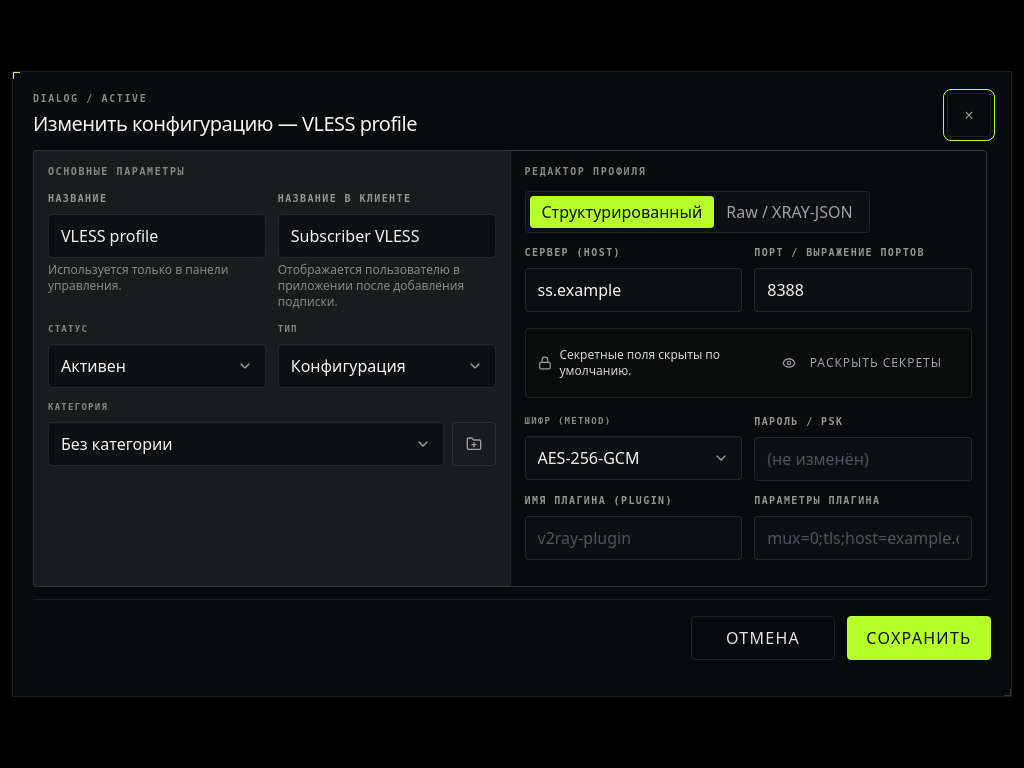
Test: KeyEditorModal regression recovery › blocks saving when independently edited structured and raw drafts diverge
Step 1. Click the button "Raw / XRAY-JSON" → {"x": 790, "y": 212}, box [714,196,865,228]
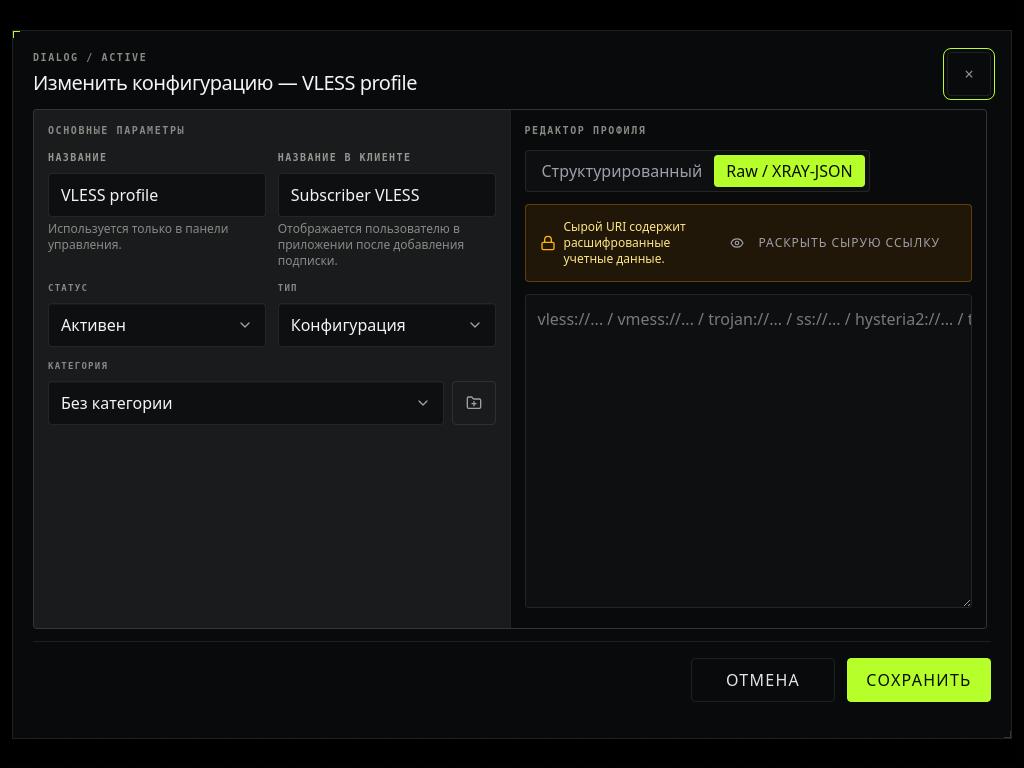
Step 2. Click the button "Раскрыть сырую ссылку" → {"x": 835, "y": 242}, box [714,220,957,264]
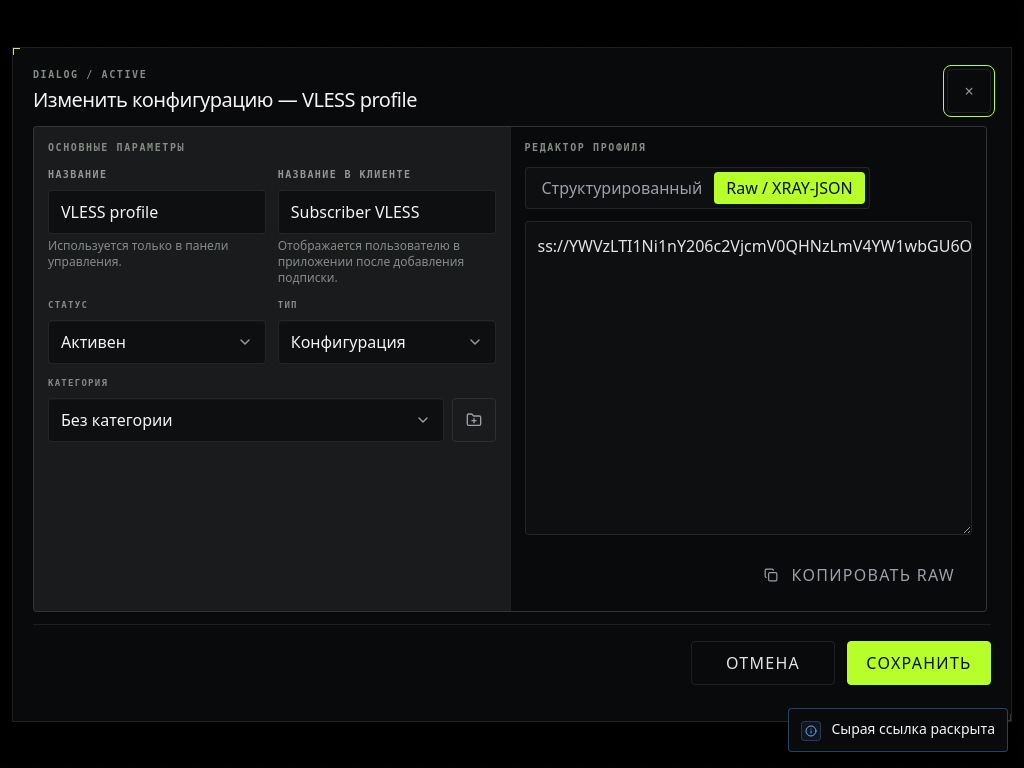
Expected: the text box showing "ss://" is shown, [524,220,972,534]
Step 3. Click the button "Структурированный" → {"x": 622, "y": 188}, box [530,172,714,204]
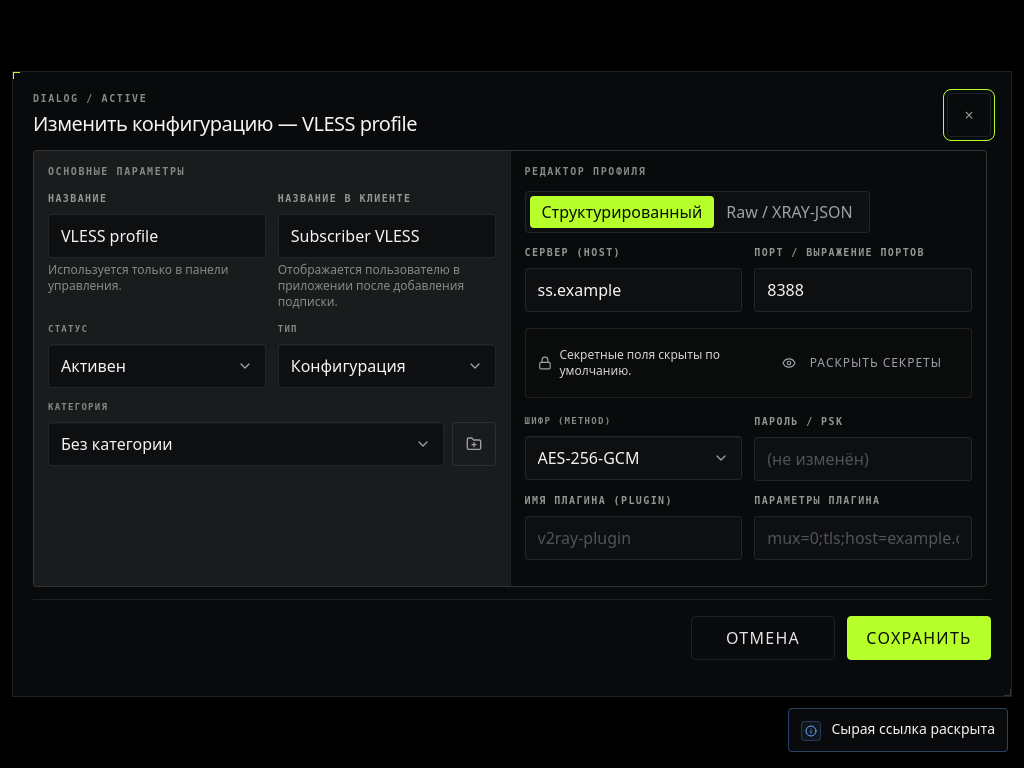
Step 4. Replace the text in the field labelled "Сервер (Host)" with "changed.example" → {"x": 633, "y": 290}, box [524,268,742,312]
Step 5. Click the button "Raw / XRAY-JSON" → {"x": 790, "y": 212}, box [714,196,865,228]
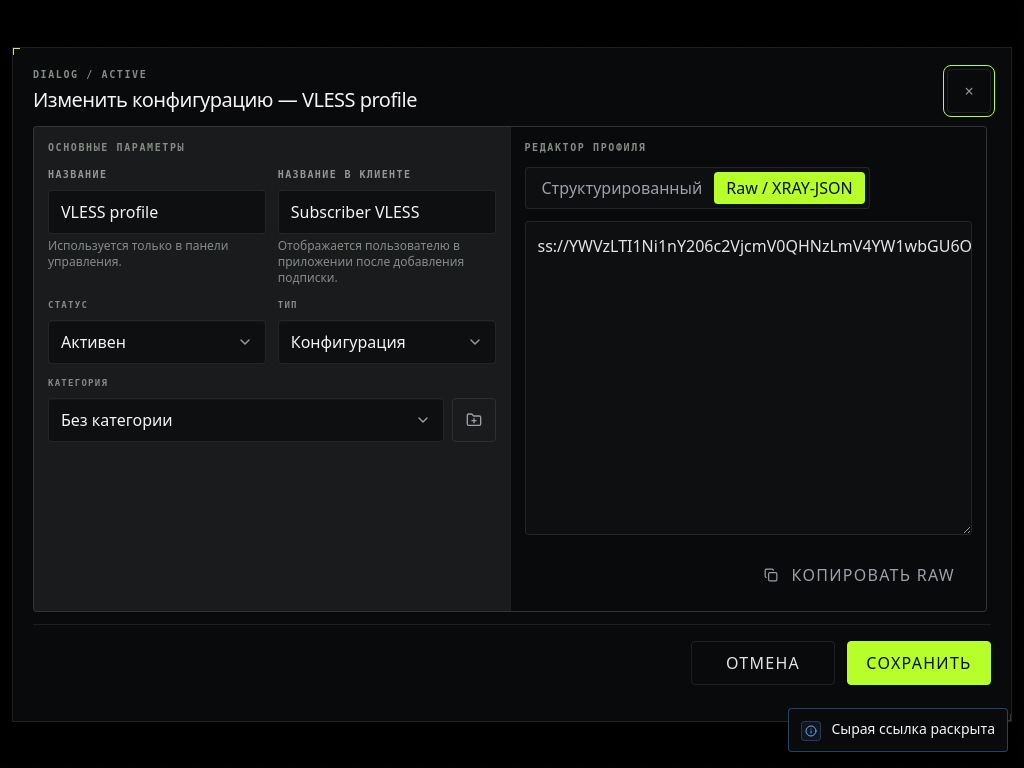
Step 6. Replace the text in the text box named "Raw-конфигурация" with "ss://independent-draft" → {"x": 748, "y": 378}, box [524,220,972,534]
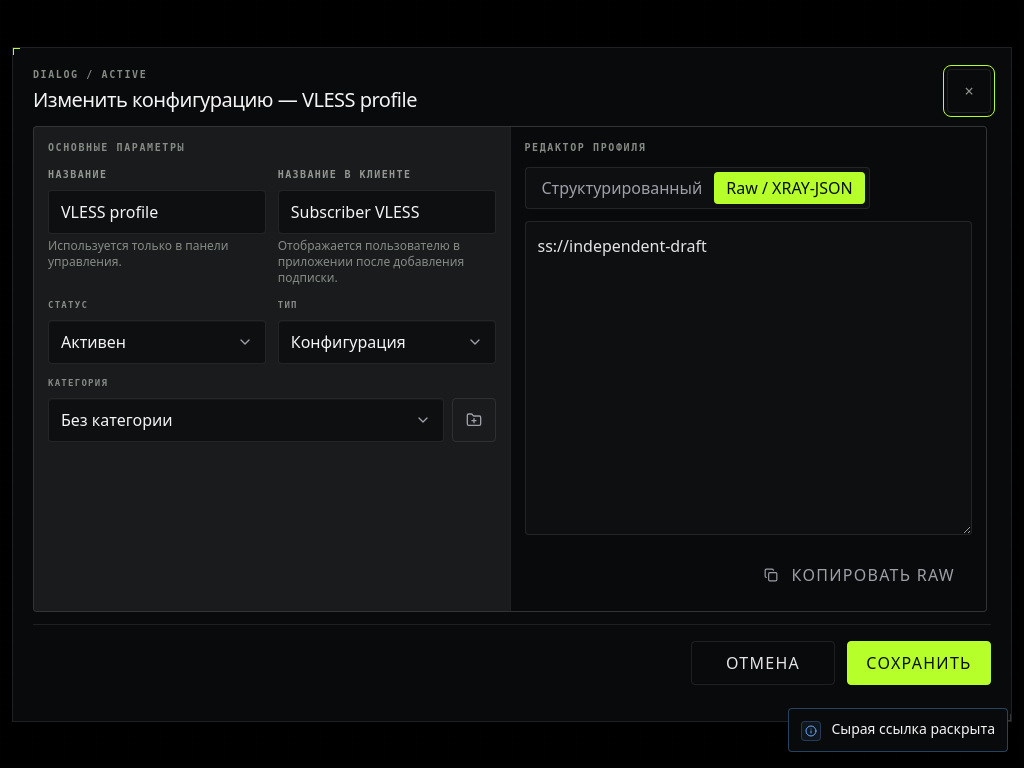
Step 7. Click the button "Сохранить" → {"x": 919, "y": 662}, box [847,640,991,684]
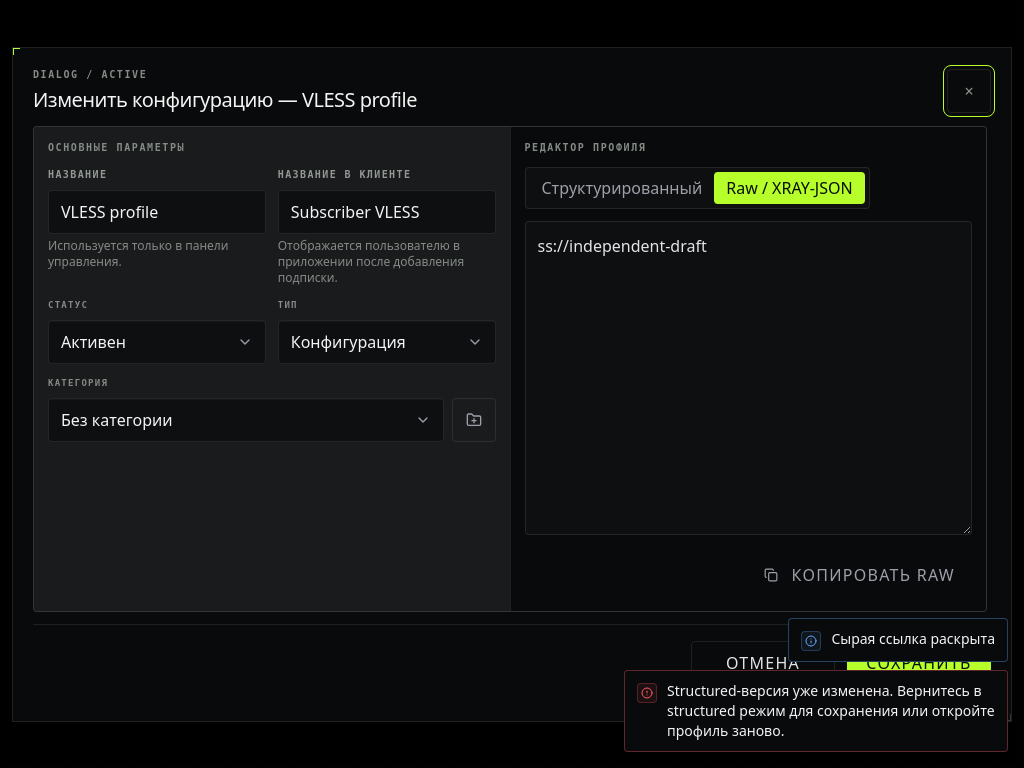
Expected: the text "Structured-версия уже изменена" is shown, [667,681,998,740]
